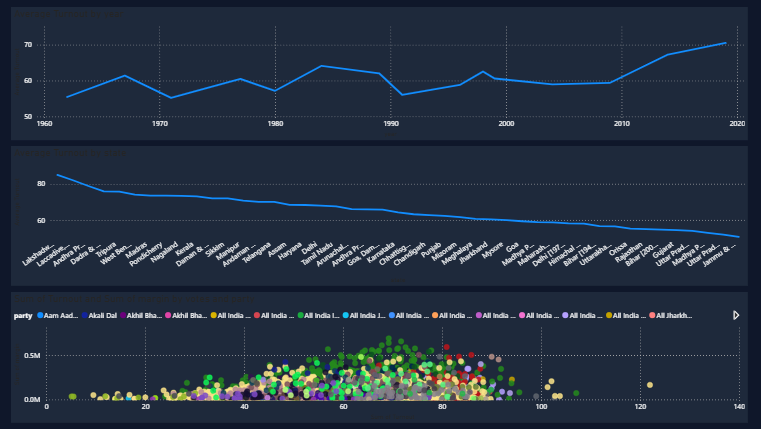

The dashboard page shown, as its layout file describes it:
{"tool":"powerbi","page":{"name":"Page 3","canvas":[1280,720],"ordinal":2},"visuals":[{"type":"lineChart","fields":{"Category":["final_processed_election_data.year"],"Y":["final_processed_election_data.Avg Turnout"]},"box":[0,85,1280,195],"z":0},{"type":"barChart","fields":{"Category":["final_processed_election_data.state"],"Y":["final_processed_election_data.Avg Turnout"]},"box":[0,290,1280,195],"z":1000},{"type":"scatterChart","fields":{"Y":["Sum(final_processed_election_data.margin)"],"Series":["final_processed_election_data.party"],"Size":["Sum(final_processed_election_data.votes)"],"X":["final_processed_election_data.Avg Turnout"]},"box":[0,495,1280,195],"z":2000},{"type":"textbox","box":[0,0,1280,62.5],"z":3000}]}

Visuals, with their boxes in screenshot pixels (x1, y1, x2, y2), scaled from the page's 1280x720 canvas onto the 761x429 screenshot:
lineChart - final_processed_election_data.year x final_processed_election_data.Avg Turnout: x1=0, y1=51, x2=760, y2=167
barChart - final_processed_election_data.state x final_processed_election_data.Avg Turnout: x1=0, y1=173, x2=760, y2=289
scatterChart - Sum(final_processed_election_data.margin) x final_processed_election_data.party: x1=0, y1=295, x2=760, y2=411
textbox: x1=0, y1=0, x2=760, y2=37
